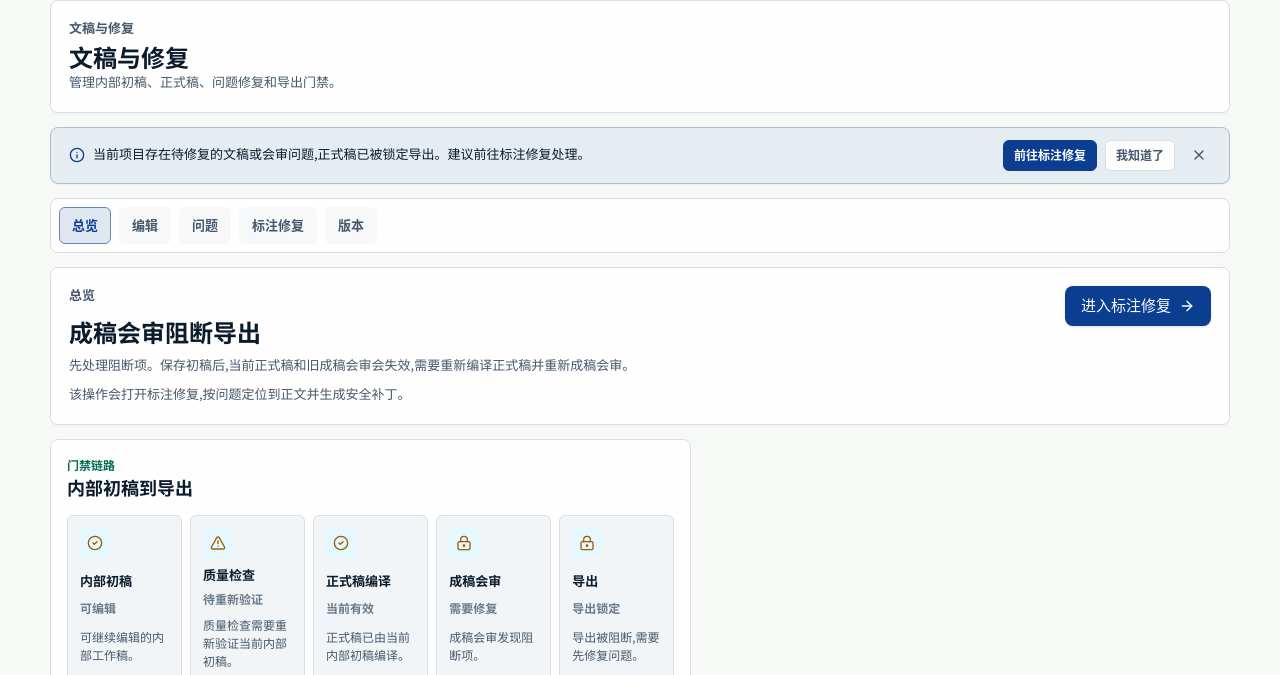
Test case: DocumentRepairWorkspace › opens the annotated repair workspace tab with issue queue, document body, and inspector
Click the button "进入标注修复" at x=1138, y=306, box [1065,286,1211,326]
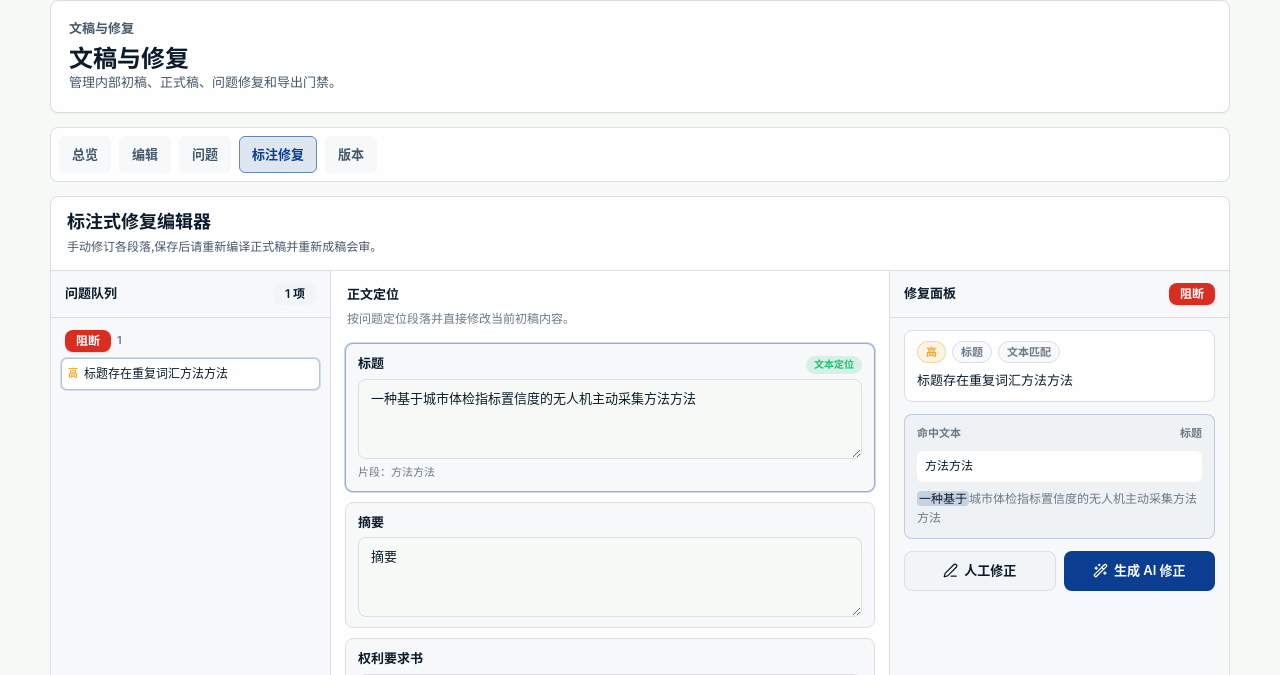
Check: the heading "问题队列" is shown, box [65,284,117,305]
Check: the heading "正文定位" is shown, box [347,287,399,303]
Check: the heading "修复面板" is shown, box [904,284,956,305]
